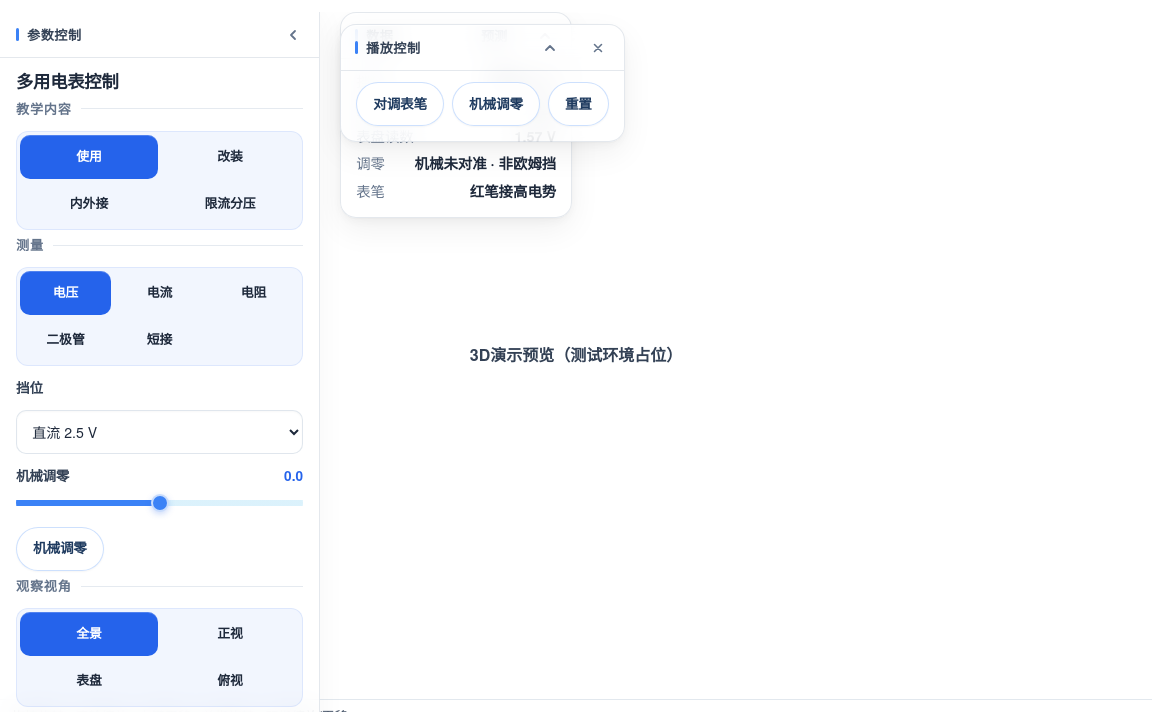
Test: multimeter structure › swaps the probe label and shows the connection-error chart
This screenshot has width=1152, height=712.
Click the button "对调表笔" at x=400, y=104, box [356,82,444,126]
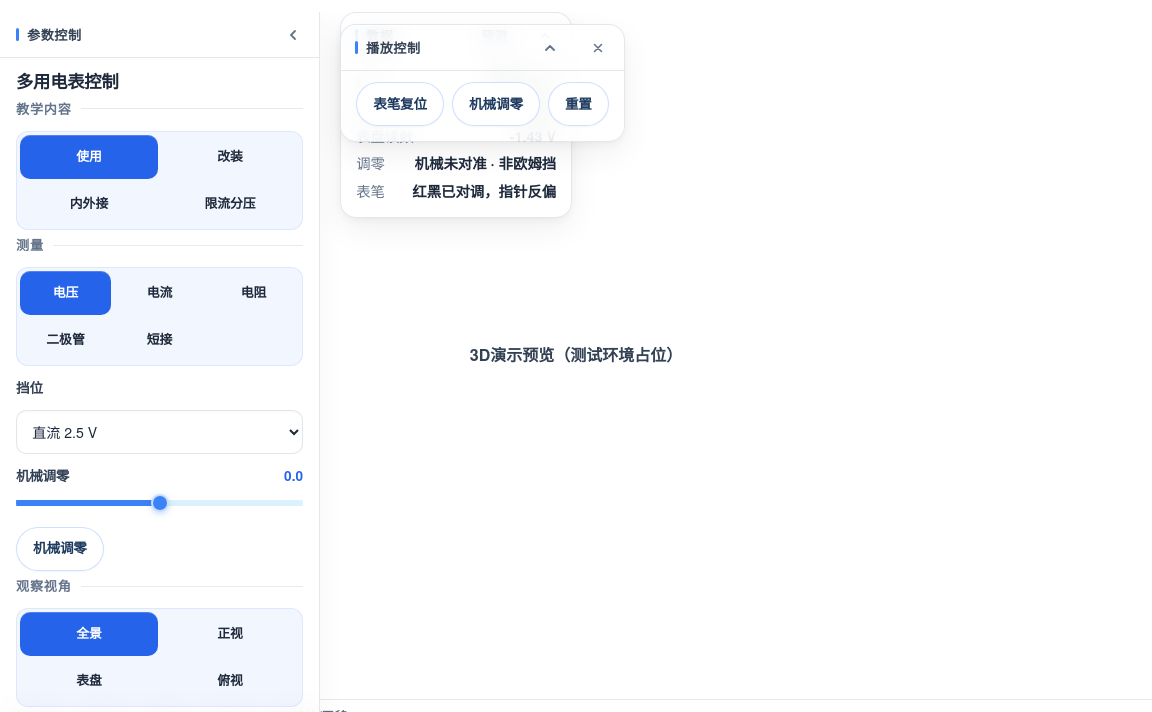
Expected: the text "红黑已对调，指针反偏" is shown, [412,181,556,202]
Click the radio button labelled "内外接" at x=89, y=204, box [20,182,158,226]
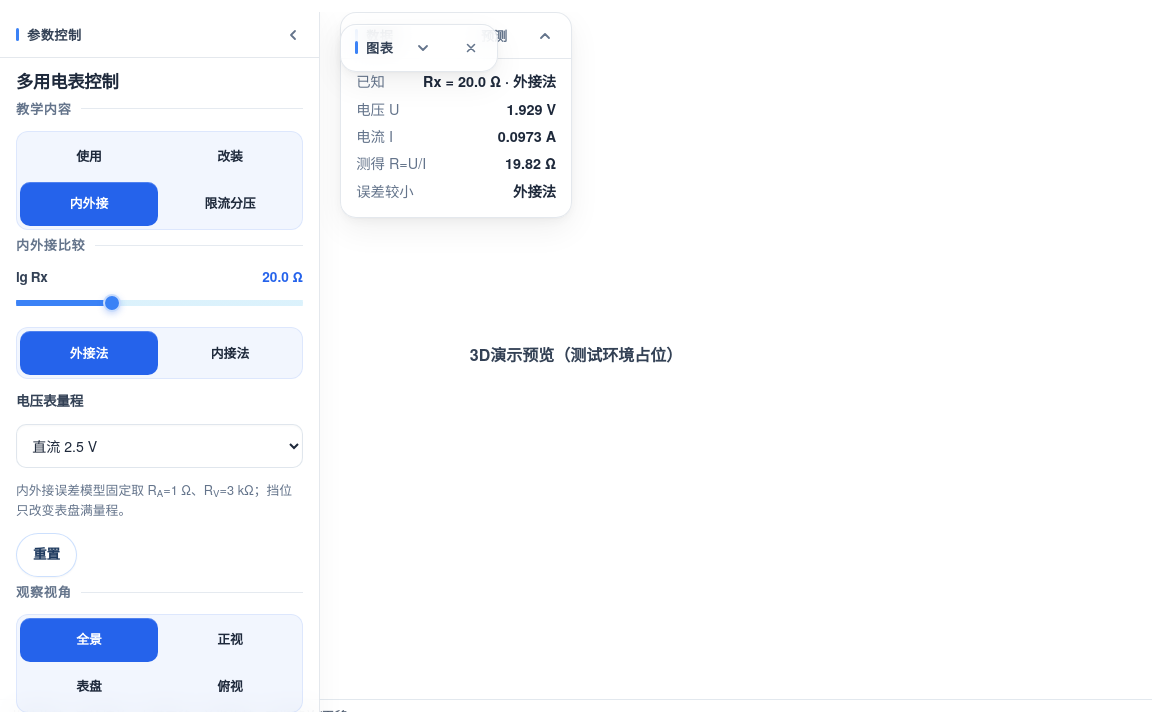
Expected: the element "图表" is shown, [340,24,498,72]
Expected: the button named "展开" is shown, [401,26,445,70]
